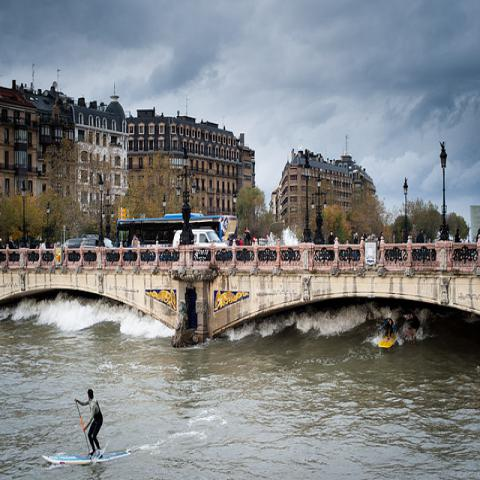bus: (117, 216, 238, 248)
car: (172, 229, 229, 261), (61, 238, 84, 248), (80, 239, 100, 248)
truck: (172, 228, 229, 247)
